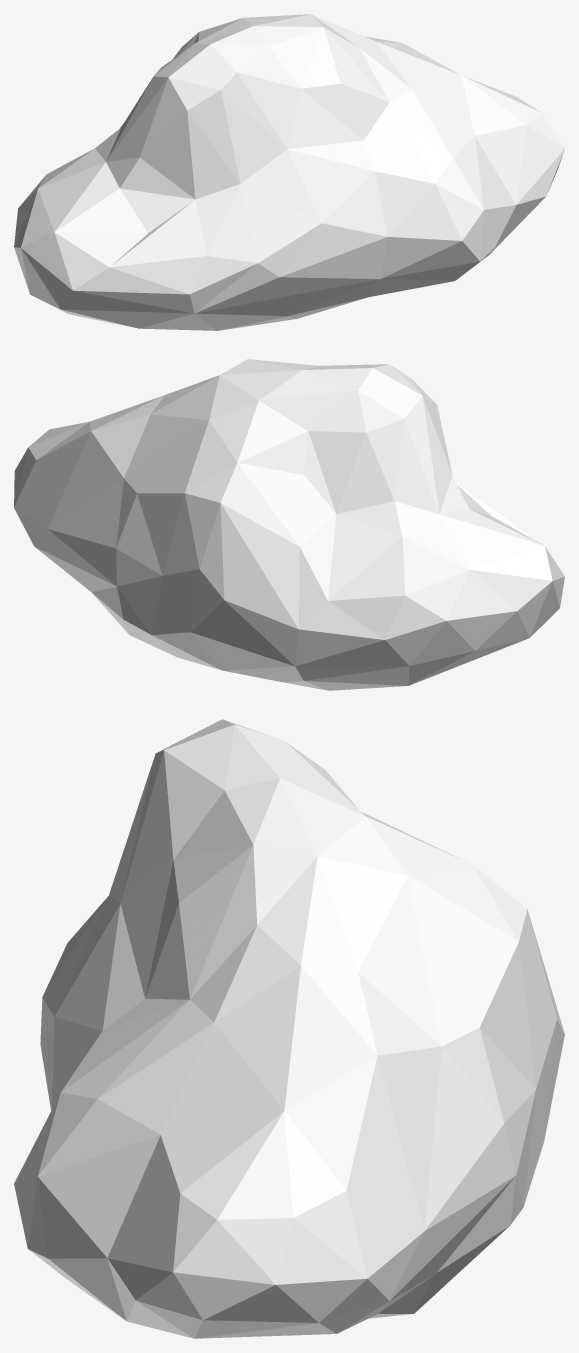
File: Small_Cloud_02.glb
3 views of the same model, one above another, from view 1: azimuth 30°, elevation 25°; view 2: azimuth 150°, elevation 25°; view 3: azimuth 270°, elevation 25° (orthographic). The views are drawn at different scales.
Parts seen in each view (by area): view 1: Cloud_02; view 2: Cloud_02; view 3: Cloud_02.
Part boxes in pixels (bbox=[...]): Cloud_02: bbox=[14, 14, 564, 330]; Cloud_02: bbox=[14, 359, 564, 690]; Cloud_02: bbox=[14, 719, 564, 1338].
Bounding box in the file's own units: 4.31 × 2.22 × 2.39.
1 material, 1 textured.
